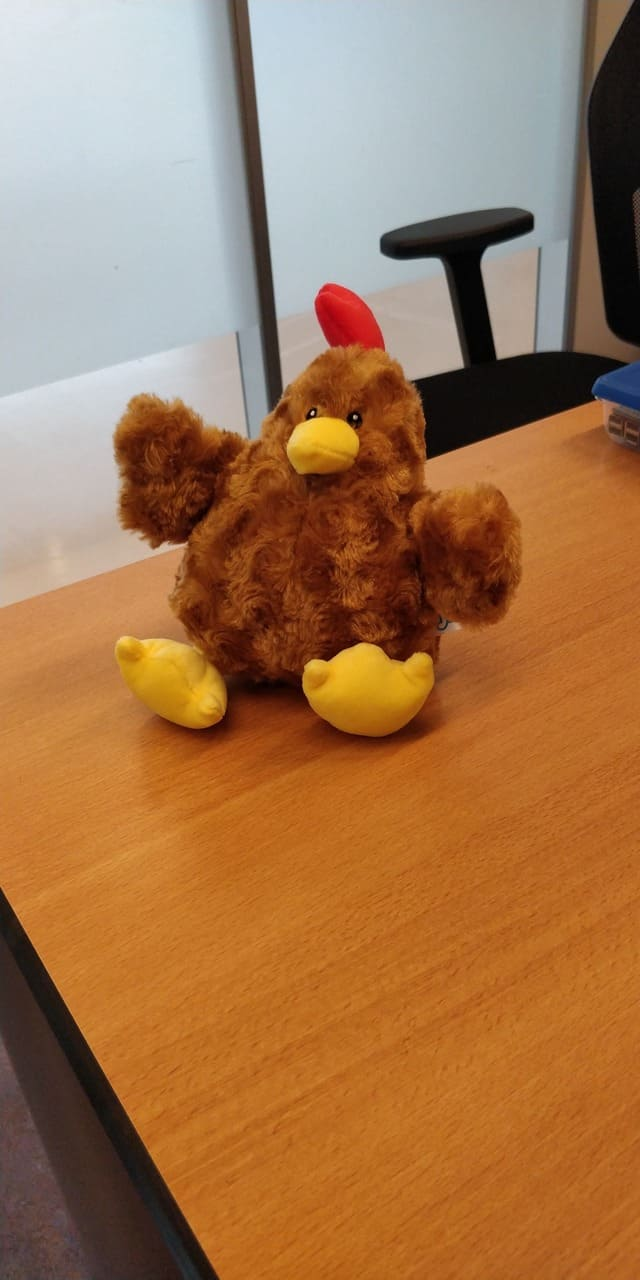fakeChicken: (111, 281, 523, 739)
